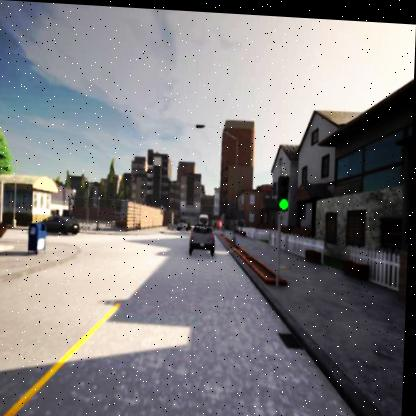vehicle: (42, 214, 82, 235), (189, 222, 217, 250)
